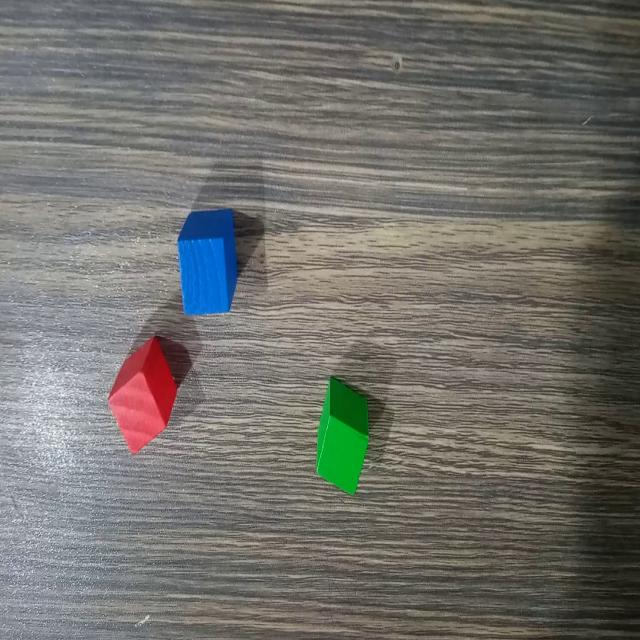cube: (106, 333, 180, 458), (312, 374, 373, 500), (174, 206, 237, 322)
